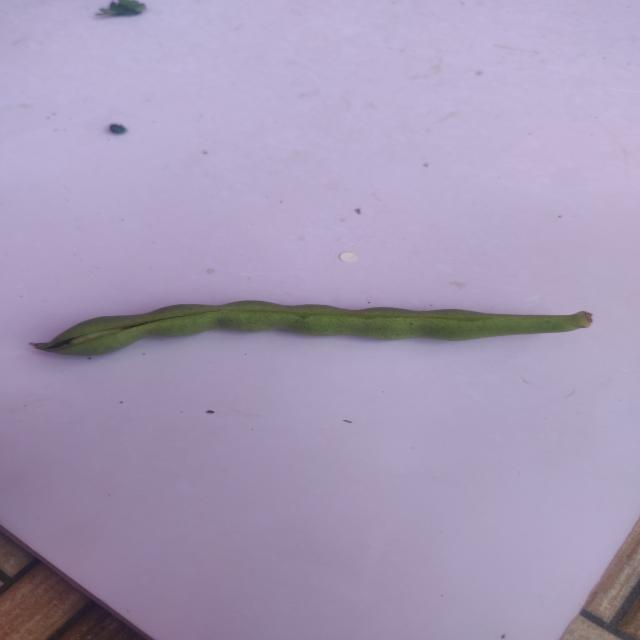Beans: (25, 290, 601, 364)
